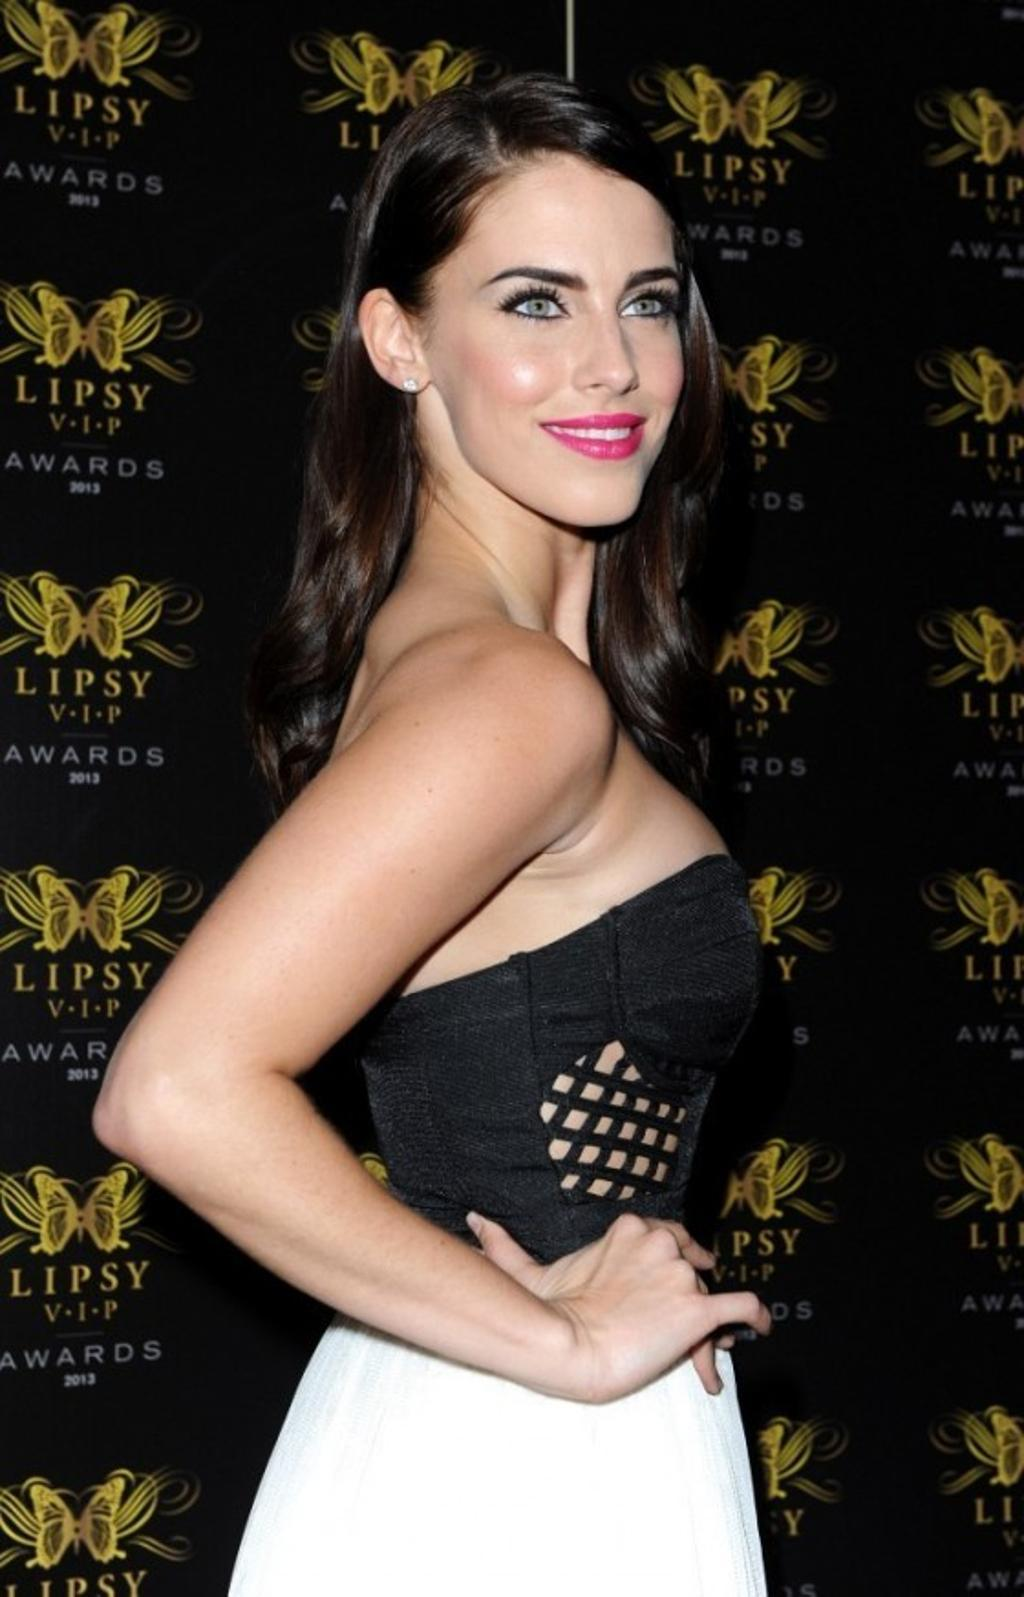face: (435, 166, 685, 522)
